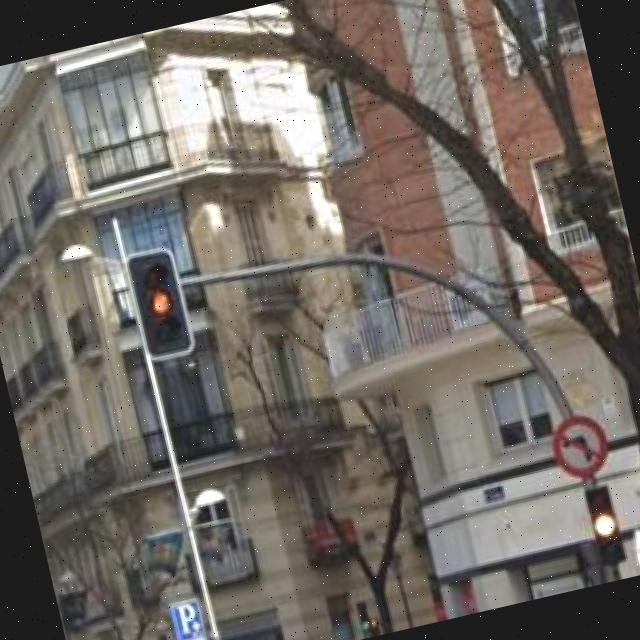yellow_light: (128, 250, 190, 362), (583, 484, 624, 564)
